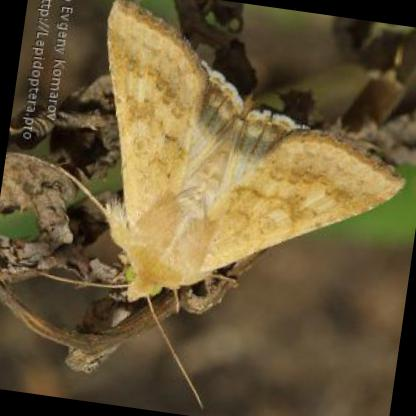helicoverpa: (102, 0, 405, 303)
